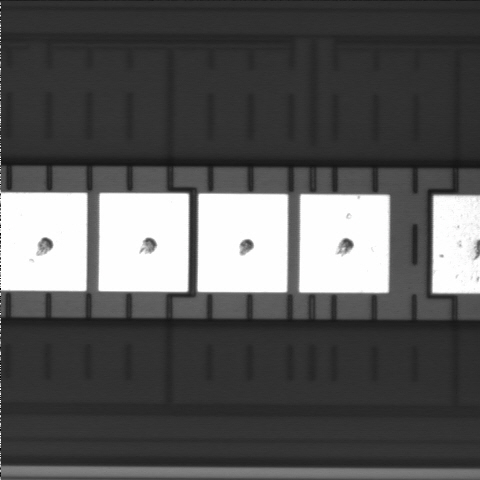pad: (98, 193, 189, 292), (197, 194, 288, 292), (299, 194, 389, 293)
